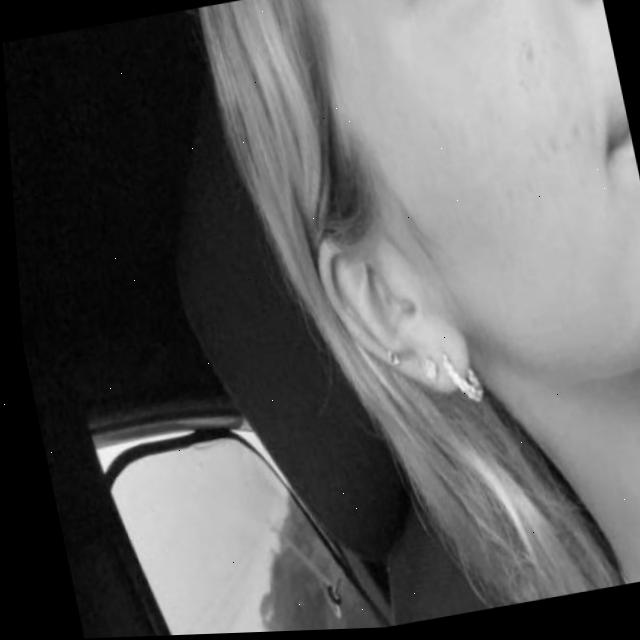Acne: (473, 22, 592, 181)
